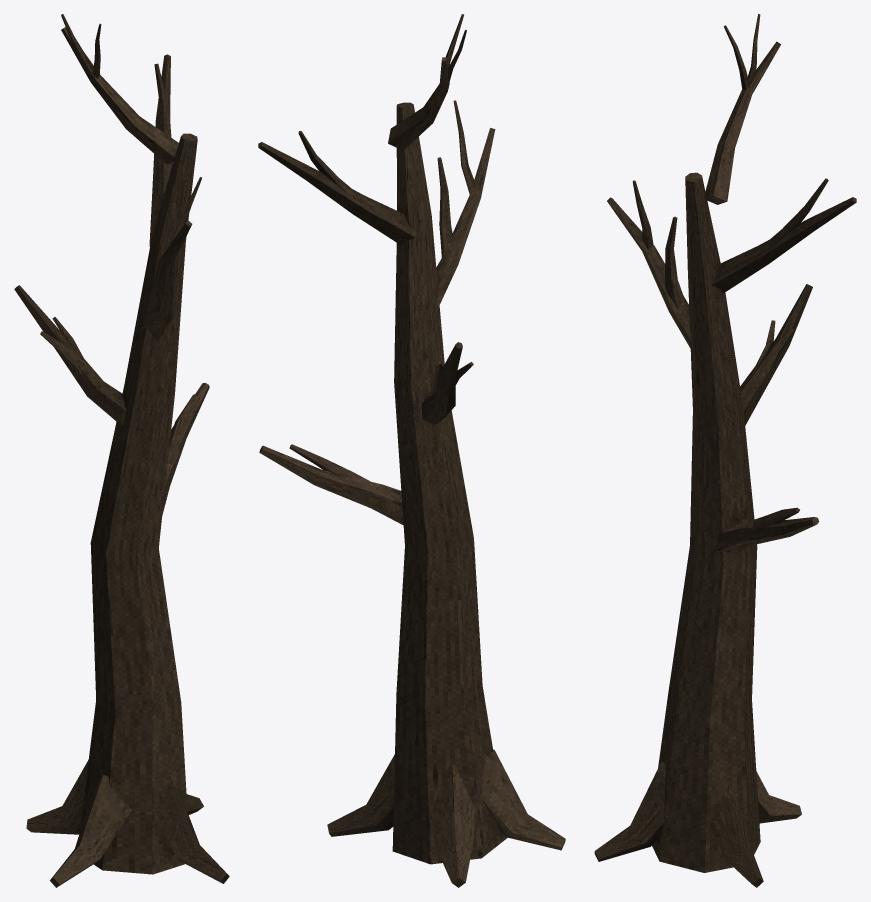
Rendered from Tree_Dead_01.glb.
The picture shows the model from 3 angles, left to right: view 1: azimuth 30°, elevation 25°; view 2: azimuth 150°, elevation 25°; view 3: azimuth 270°, elevation 25°; orthographic projection. The views are drawn at different scales.
Parts seen in each view (by area): view 1: Tree_Dead_01; view 2: Tree_Dead_01; view 3: Tree_Dead_01.
Boxes of the visible parts, x1,y1,x2,y2 form: Tree_Dead_01: (14,14,229,887); Tree_Dead_01: (258,14,565,887); Tree_Dead_01: (594,14,856,887).
Bounding box in the file's own units: 0.9474 × 3.29 × 0.9608.
1 material, 1 textured.
